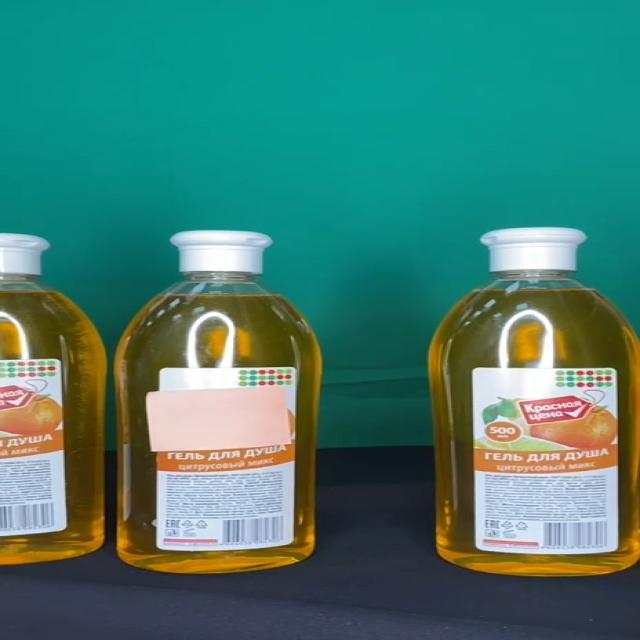Bottle: (425, 227, 640, 578), (114, 230, 323, 572)
Cap: (481, 228, 586, 271), (169, 230, 272, 273)
